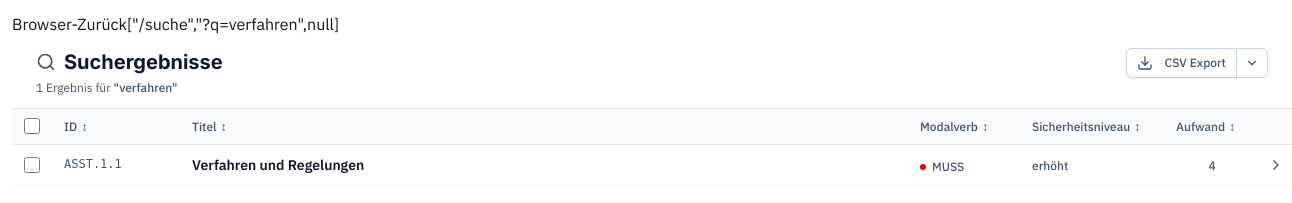
Test: SearchPage › Desktop-Ergebnisse › navigiert bei Klick auf Tabellenzeile zur Katalogdetailroute
Click the row "ASST.1.1 Verfahren und Regelungen MUSS erhöht 4" at (652, 165), box top-left (12, 145), bottom-right (1291, 186)
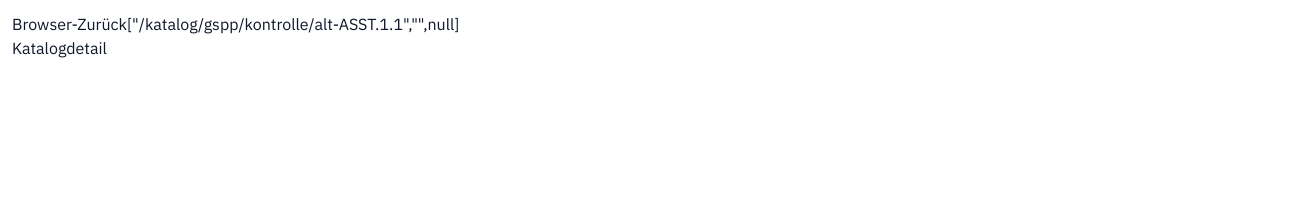
Expected: the text "Katalogdetail" is shown, top-left (12, 38), bottom-right (107, 58)
